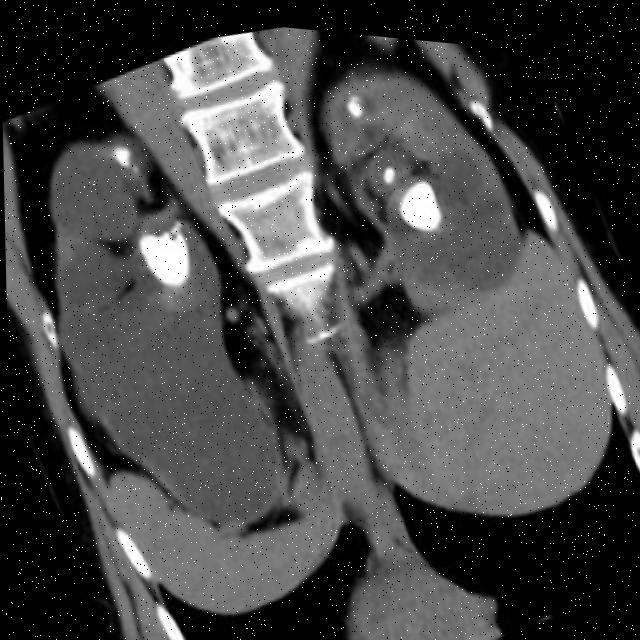Tas_Var: (125, 206, 212, 302), (386, 164, 455, 246), (105, 135, 137, 170), (344, 89, 369, 119), (378, 154, 401, 180), (165, 215, 181, 235), (174, 213, 186, 228)
